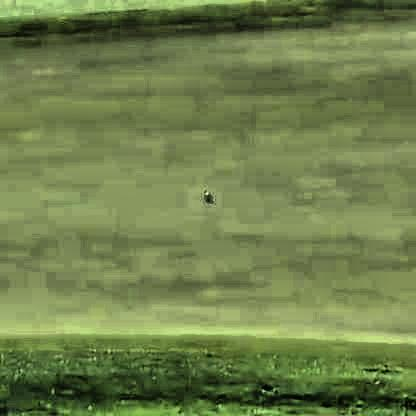golfball: (201, 184, 212, 197)
